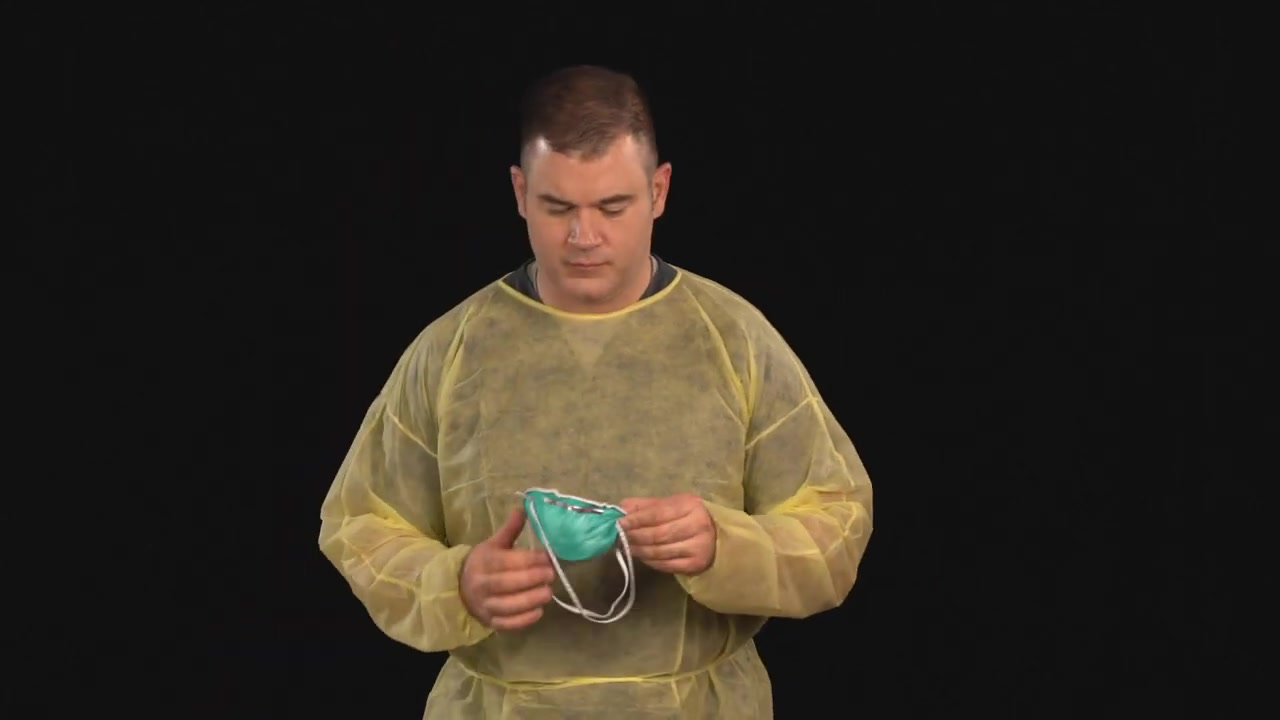Coverall: (376, 261, 841, 720)
Mask: (515, 473, 652, 601)
